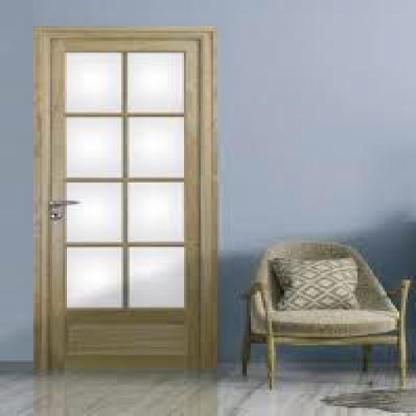door: (13, 17, 226, 390)
